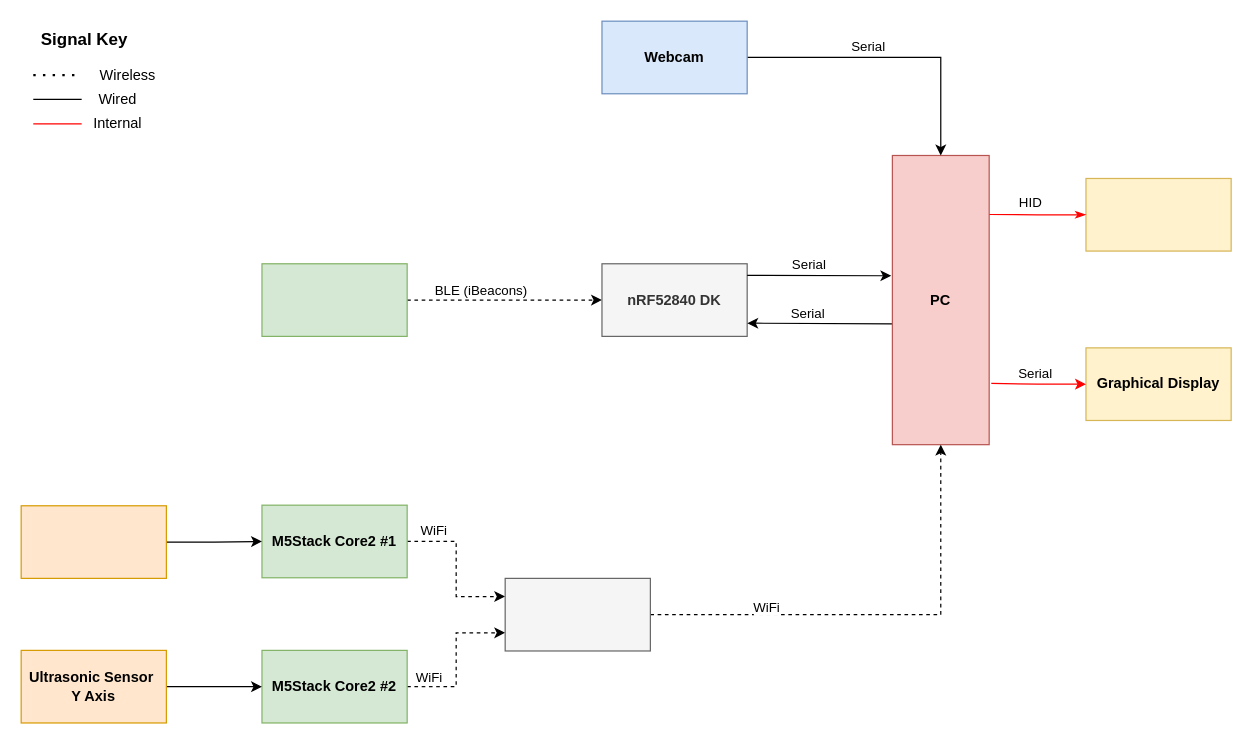
This 1252x744 diagram has some shape labels left out. The shapes that lost their labels are listed below. From the top down, each one's centre as x and y in pixels, then its label:
[1158,214]: Minecraft
[334,299]: Thingy52 (Onboard PB)
[93,541]: Ultrasonic Sensor X Axis
[577,614]: MQTT Server
